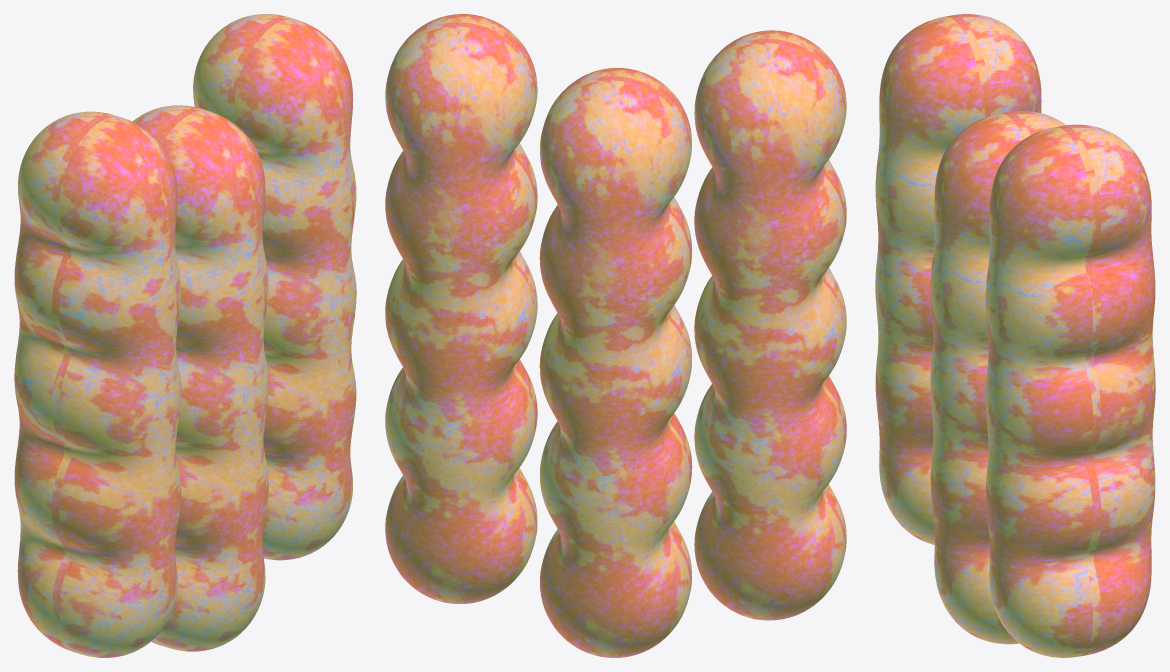
Rendered from textured-food.glb.
3 renders of one model, left to right at view 1: azimuth 30°, elevation 25°; view 2: azimuth 150°, elevation 25°; view 3: azimuth 270°, elevation 25°, orthographic. The views are drawn at different scales.
Parts seen in each view (by area): view 1: groupNumber_2, groupNumber_0, groupNumber_1; view 2: groupNumber_2, groupNumber_0, groupNumber_1; view 3: groupNumber_0, groupNumber_2, groupNumber_1.
Boxes of the visible parts, box(x1,y1,x2,y2) form: groupNumber_2: box(14, 111, 181, 657); groupNumber_0: box(193, 14, 356, 560); groupNumber_1: box(132, 105, 268, 651); groupNumber_2: box(694, 30, 846, 620); groupNumber_0: box(385, 14, 537, 603); groupNumber_1: box(539, 68, 692, 657); groupNumber_0: box(985, 124, 1155, 657); groupNumber_2: box(875, 14, 1041, 544); groupNumber_1: box(930, 111, 1065, 644).
Size of the model in its own units: 0.016 by 0.0243 by 0.011.
1 material, 1 textured.
